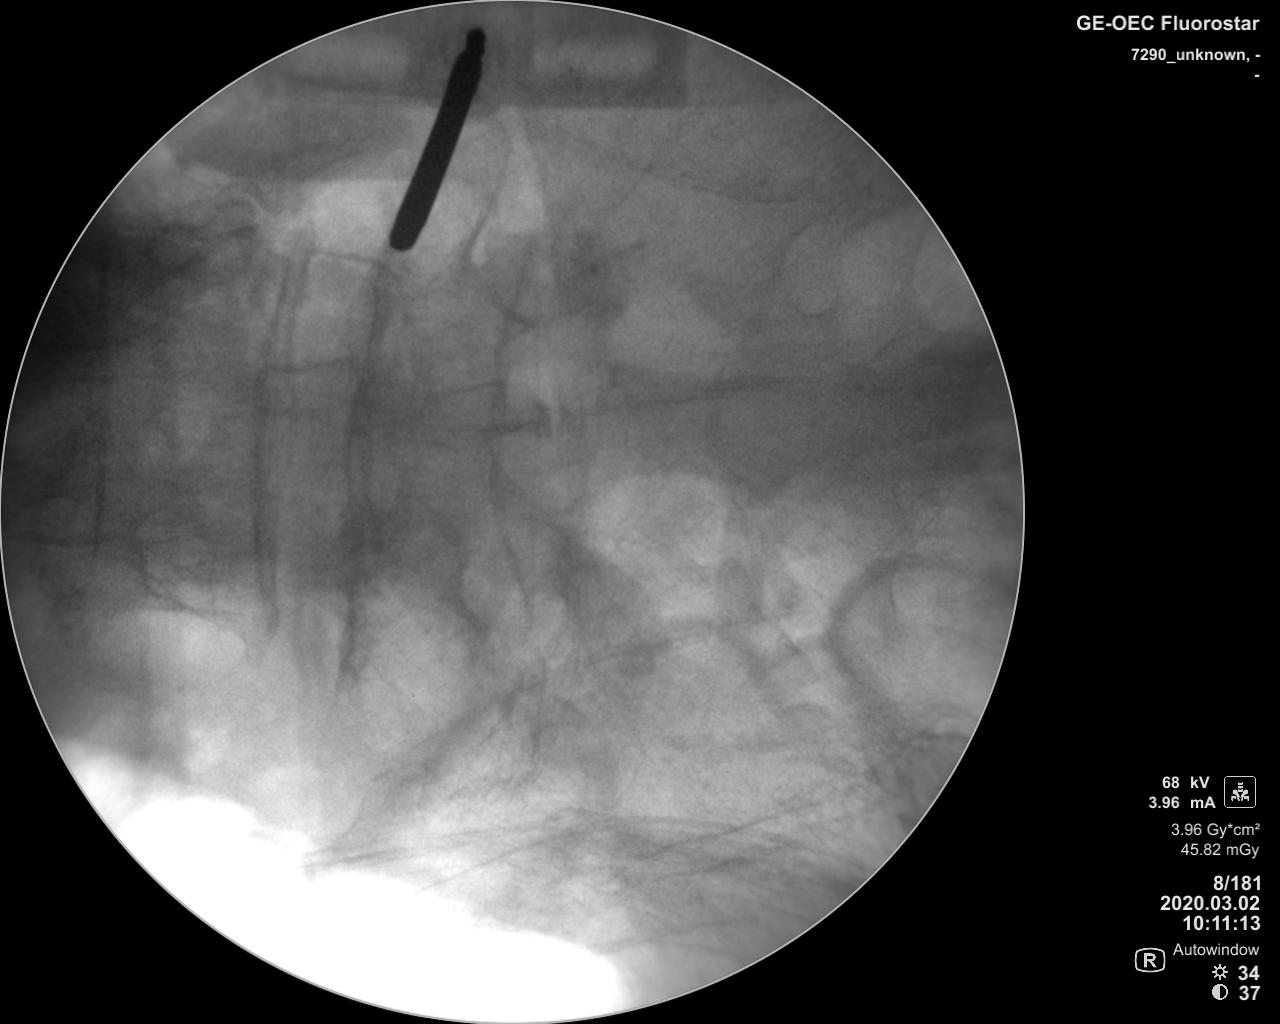eyes: (130, 507, 213, 588)
line: (488, 229, 548, 637), (331, 253, 386, 668), (250, 240, 288, 635), (84, 234, 114, 561)
nose: (228, 359, 387, 433), (408, 375, 548, 436)
